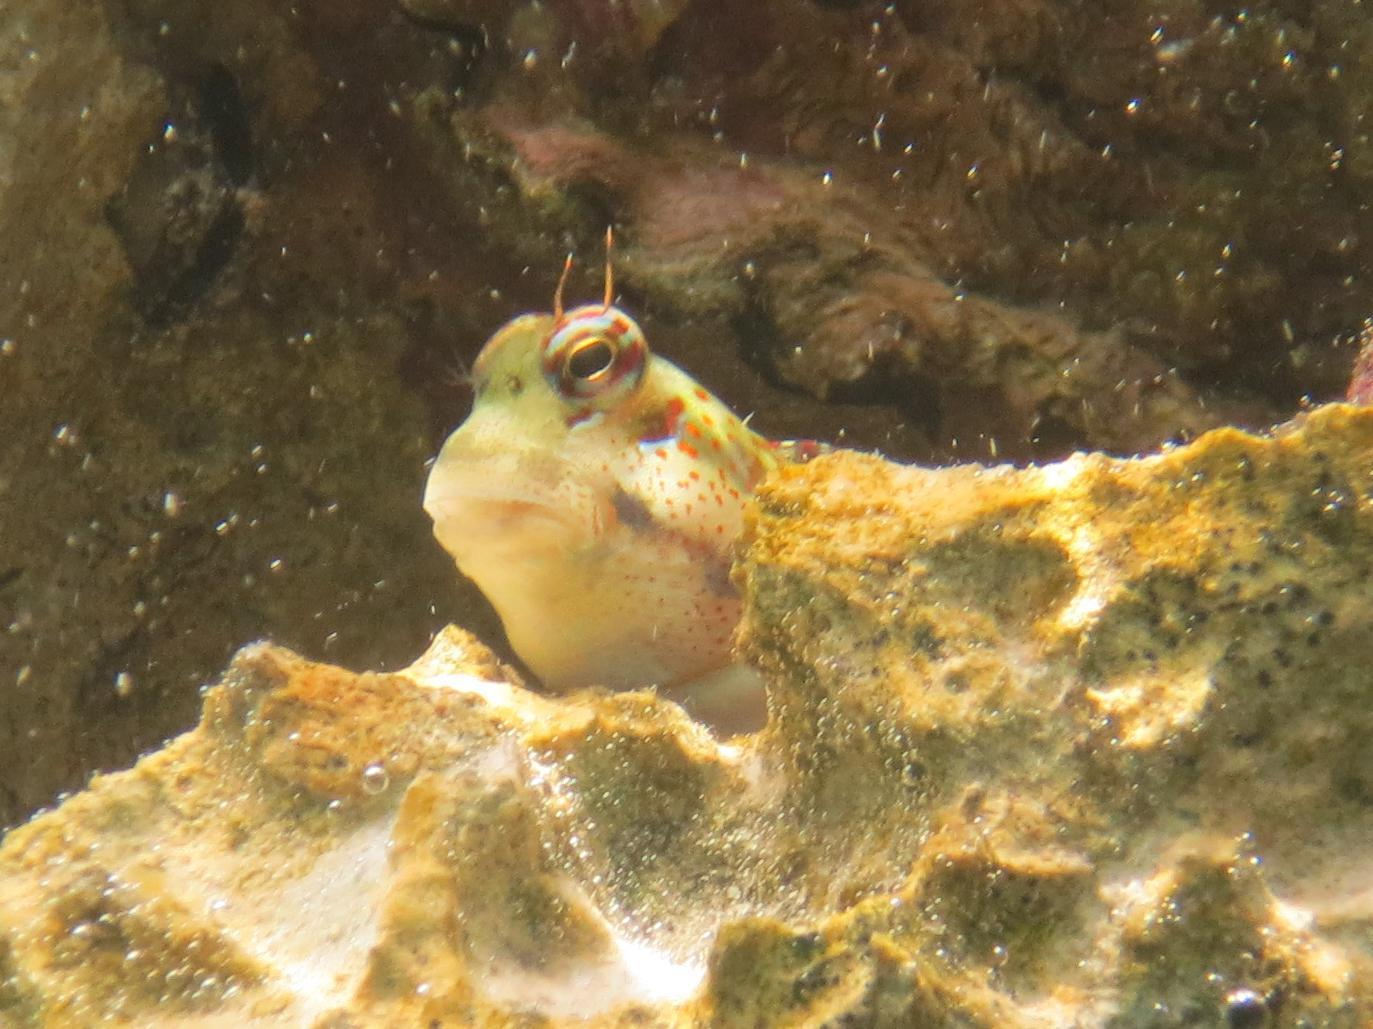Fish: (336, 213, 941, 729)
